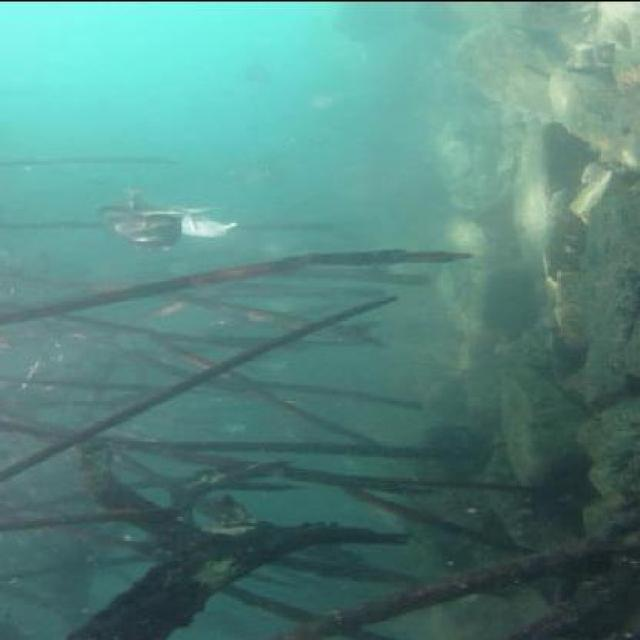Caranx_sexfasciatus_juvenile: (94, 186, 194, 252), (170, 204, 242, 238)
